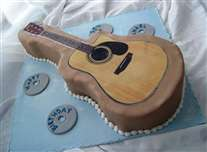guitar: (23, 19, 169, 105)
